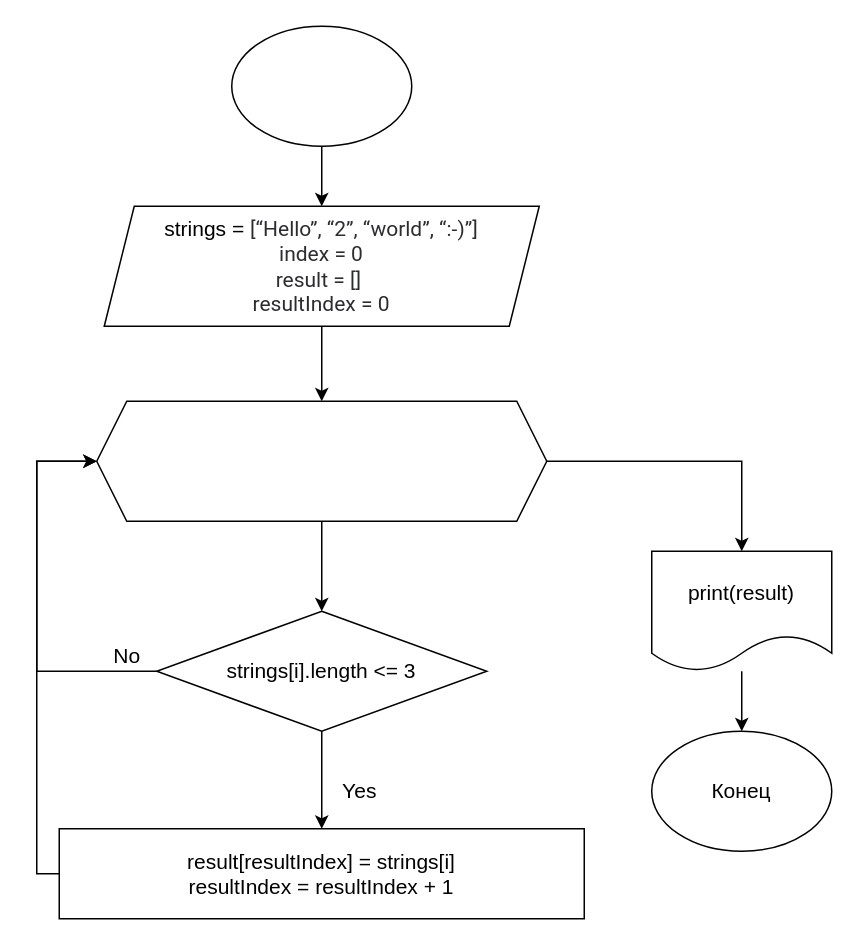
The diagram is 858 pixels wide and 945 high, and some of its shapes have lost their labels. The centre of each missing label's shape, as x and y in pixels:
"i = 0, strings.length - 1, 1" goes at (321,460).
"Начало" goes at (321,85).
